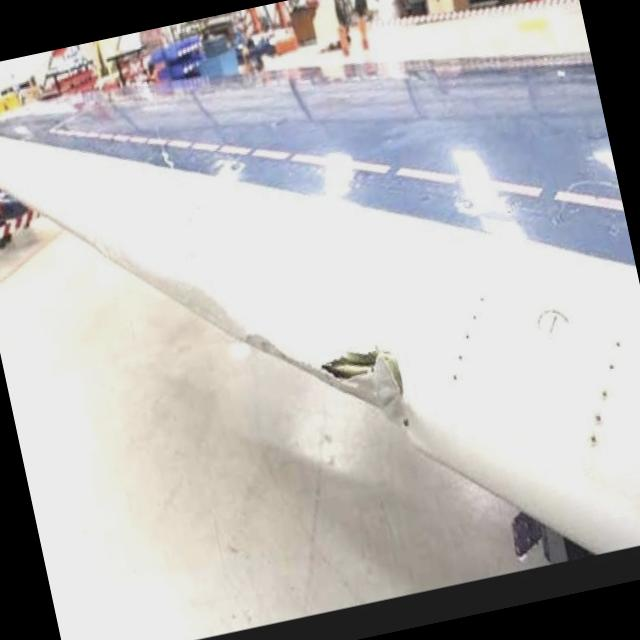crack: (316, 340, 412, 438)
dent: (114, 240, 240, 362), (244, 329, 298, 376)
